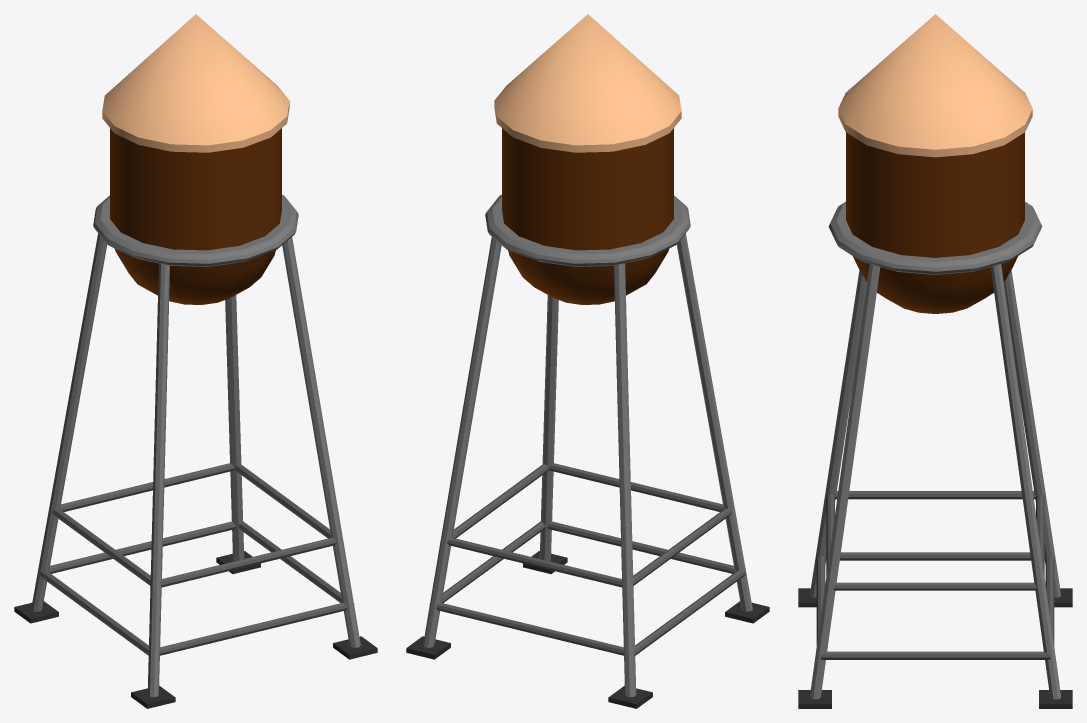
Rendered from Prop_RoofWaterStore_04.fbx.
3 renders of one model, left to right at view 1: azimuth 30°, elevation 25°; view 2: azimuth 150°, elevation 25°; view 3: azimuth 270°, elevation 25°, orthographic. The views are drawn at different scales.
Parts seen in each view (by area): view 1: Prop_RoofWaterStore_04; view 2: Prop_RoofWaterStore_04; view 3: Prop_RoofWaterStore_04.
Part boxes in pixels (bbox=[...]): Prop_RoofWaterStore_04: bbox=[14, 14, 377, 708]; Prop_RoofWaterStore_04: bbox=[406, 14, 769, 708]; Prop_RoofWaterStore_04: bbox=[798, 14, 1072, 708].
Bounding box in the file's own units: 241 × 618 × 241.
